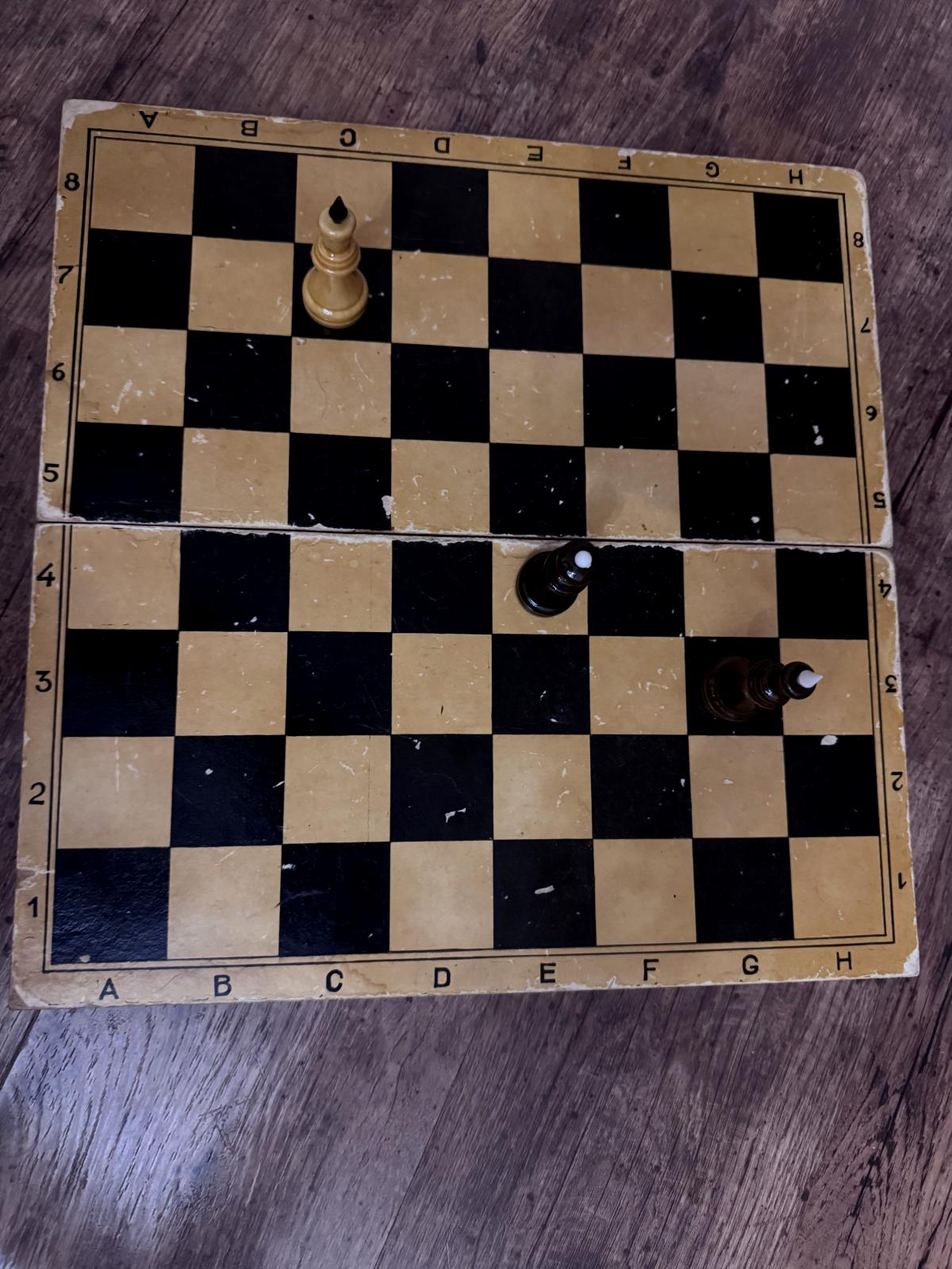Chess-Board: (50, 137, 885, 965)
